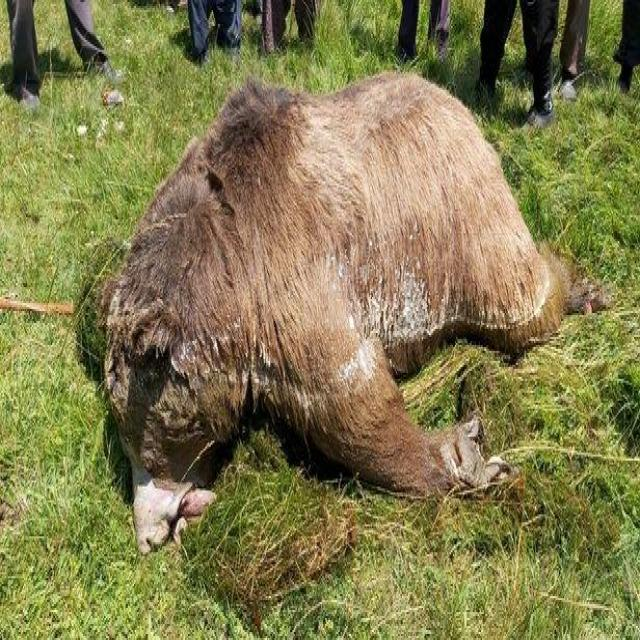Bear: (75, 72, 571, 554)
